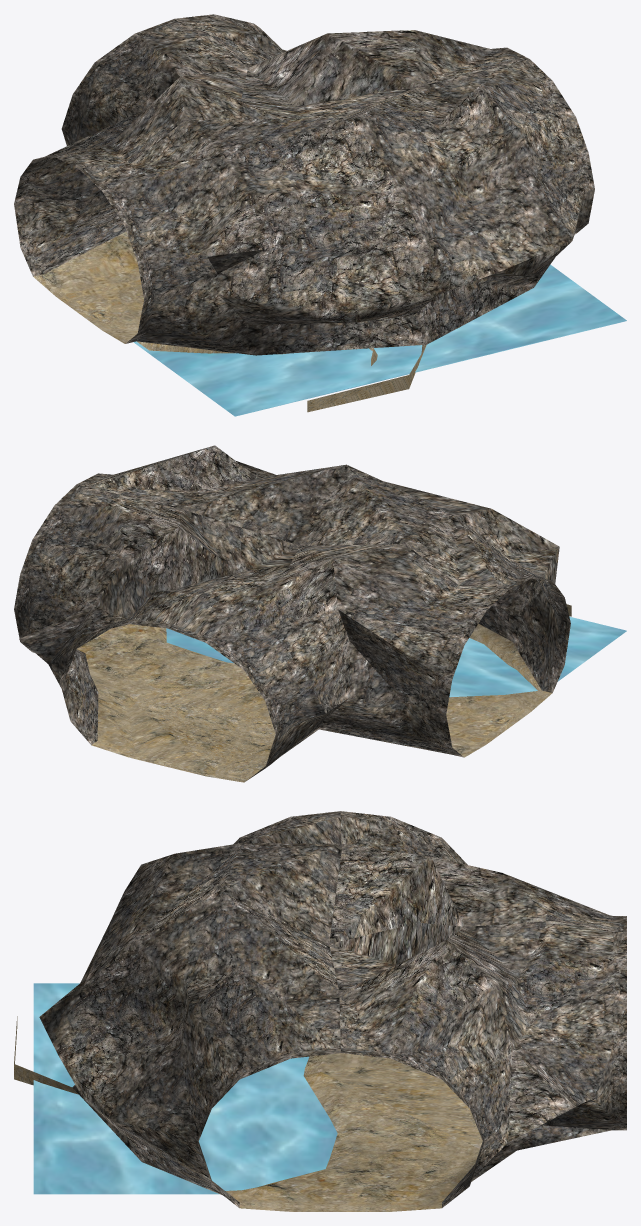
The model's file is pir_m_are_cav_threeway200_water.fbx.
3 renders of one model, top to bottom at view 1: azimuth 30°, elevation 25°; view 2: azimuth 150°, elevation 25°; view 3: azimuth 270°, elevation 25°, orthographic. The views are drawn at different scales.
Parts seen in each view (by area): view 1: threeway200_wall, water, threeway200_floor, water1; view 2: threeway200_wall, threeway200_floor, water; view 3: threeway200_wall, water, threeway200_floor.
Boxes of the visible parts, left/top/right/bottom form: threeway200_wall: left=14, top=14, right=594, bottom=355; water: left=134, top=264, right=626, bottom=415; threeway200_floor: left=33, top=231, right=426, bottom=412; water1: left=133, top=320, right=626, bottom=416; threeway200_wall: left=14, top=445, right=570, bottom=780; threeway200_floor: left=77, top=604, right=571, bottom=782; water: left=166, top=616, right=626, bottom=697; threeway200_wall: left=39, top=811, right=626, bottom=1207; water: left=33, top=983, right=337, bottom=1193; threeway200_floor: left=14, top=1016, right=482, bottom=1211.
Size of the model in its own units: 20000 by 8179 by 21418.
Materials: 3 (3 with a texture image).
